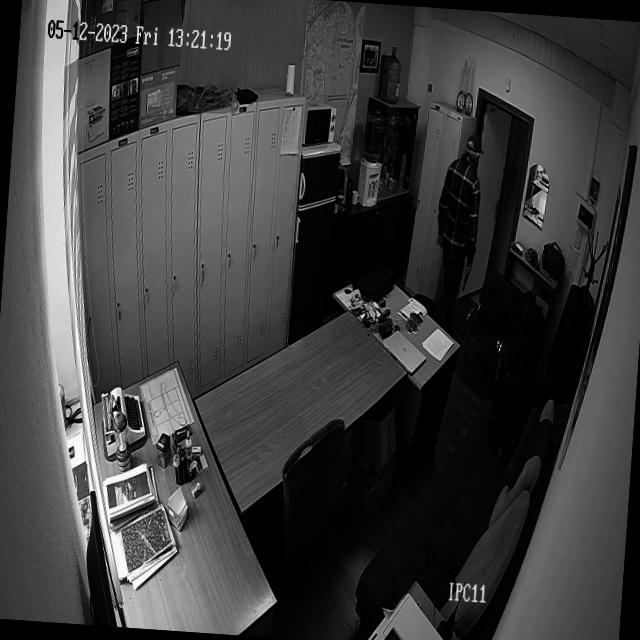gun: (462, 260, 472, 290)
person with a gun: (431, 124, 494, 333)
